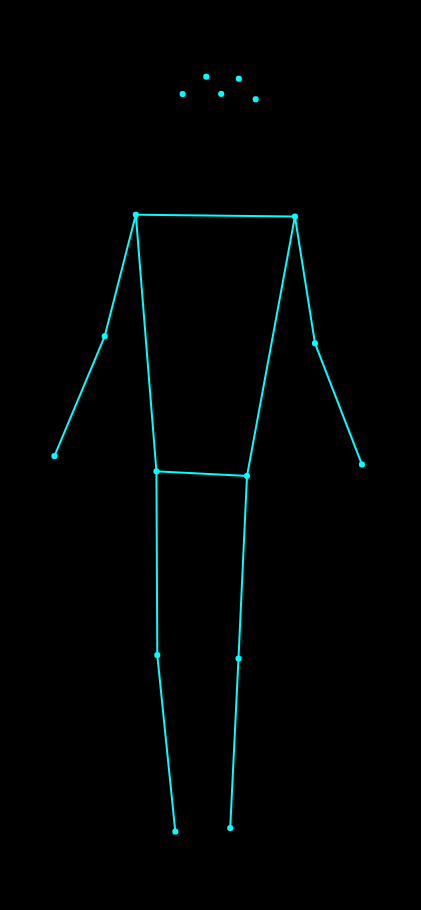mountain: (44, 56, 371, 844)
